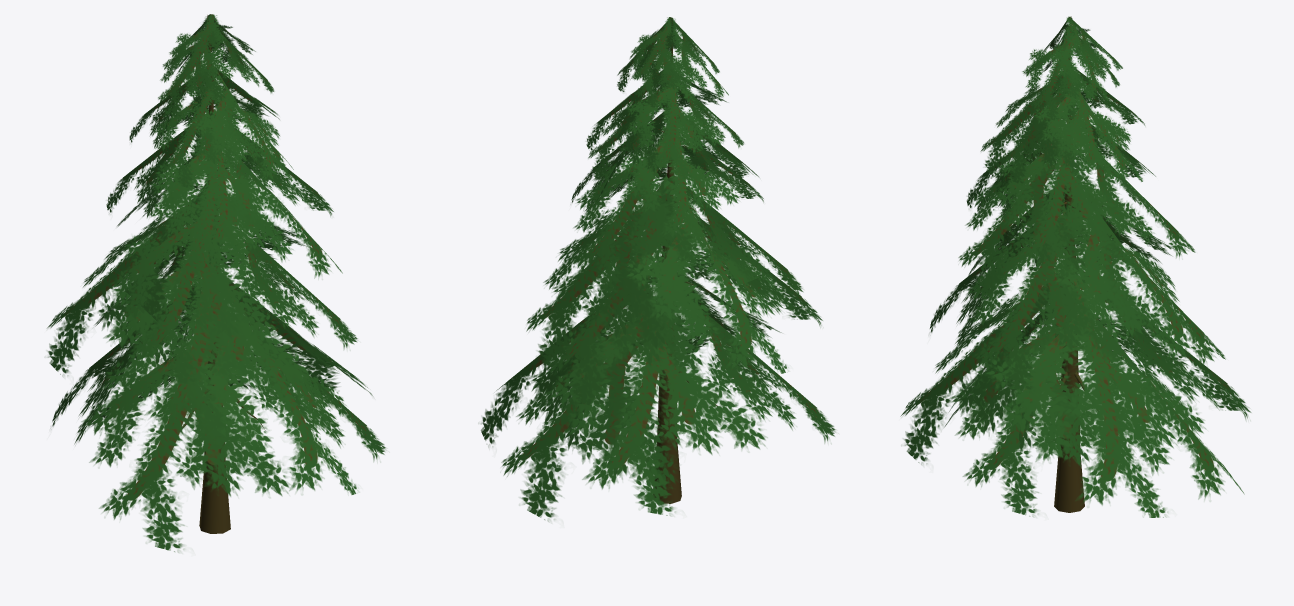
The model's file is pine-tree.glb.
3 renders of one model, left to right at view 1: azimuth 30°, elevation 25°; view 2: azimuth 150°, elevation 25°; view 3: azimuth 270°, elevation 25°, orthographic. The views are drawn at different scales.
Visible parts, largest first — view 1: tree.004; view 2: tree.004; view 3: tree.004.
Part boxes in pixels (left/top/right/bottom): tree.004: left=47, top=14, right=385, bottom=552; tree.004: left=481, top=17, right=835, bottom=521; tree.004: left=900, top=16, right=1251, bottom=517.
Bounding box in the file's own units: 7.9 × 10.61 × 7.68.
2 materials, 2 textured.
